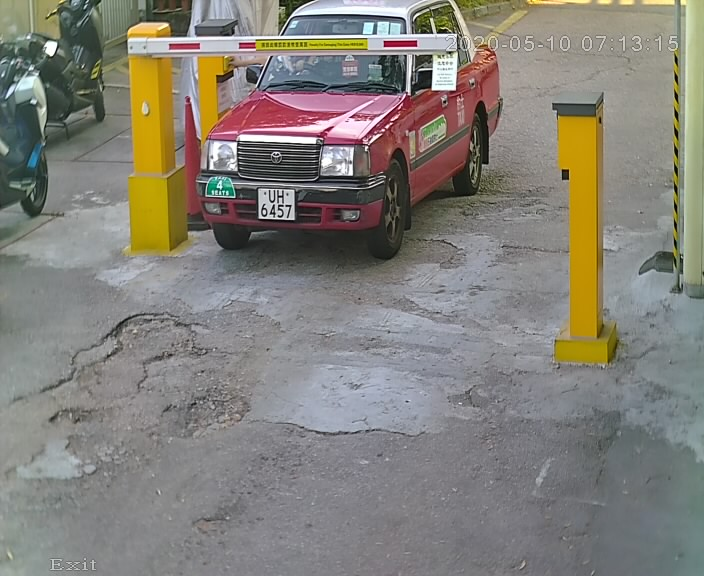taxi: (178, 2, 530, 262)
taxi_mark: (196, 169, 246, 208)
